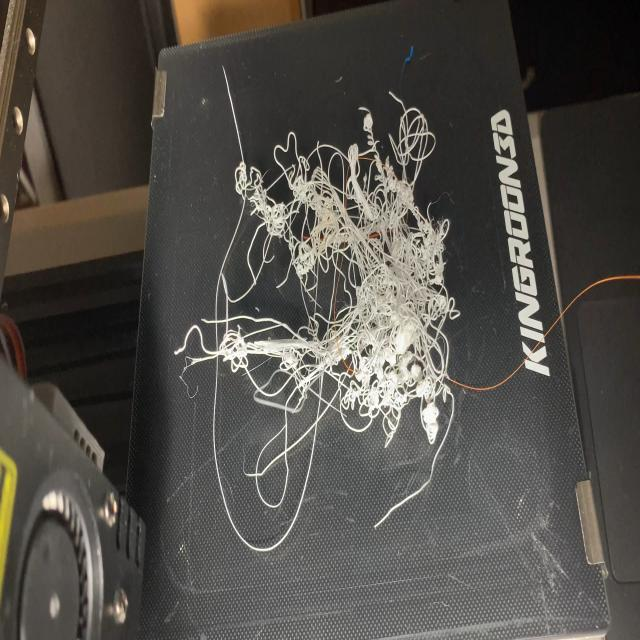spaghetti: (174, 85, 462, 554)
